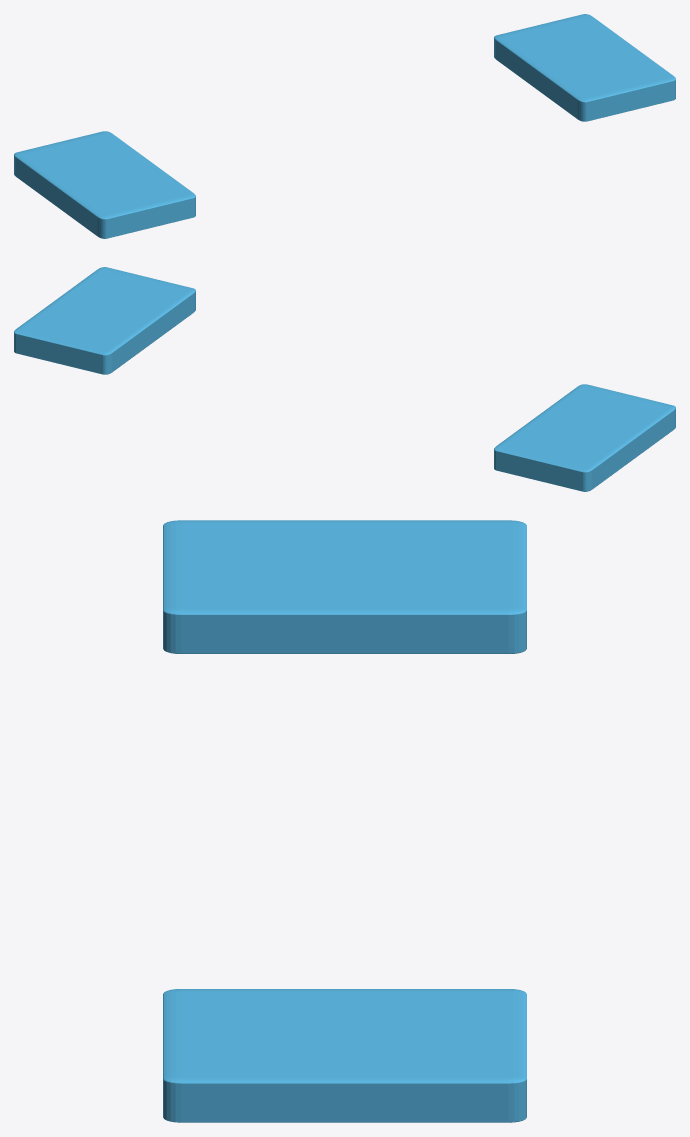
The model's file is blue_blocks.dae.
3 views of the same model, one above another, from view 1: azimuth 30°, elevation 25°; view 2: azimuth 150°, elevation 25°; view 3: azimuth 270°, elevation 25° (orthographic). The views are drawn at different scales.
Parts seen in each view (by area): view 1: BlueBlock2, BlueBlock1; view 2: BlueBlock2, BlueBlock1; view 3: BlueBlock2, BlueBlock1.
Boxes of the visible parts, x1,y1,x2,y2 form: BlueBlock2: (494, 14, 675, 121); BlueBlock1: (14, 131, 195, 238); BlueBlock2: (14, 267, 195, 374); BlueBlock1: (494, 384, 675, 491); BlueBlock2: (163, 989, 526, 1122); BlueBlock1: (163, 520, 526, 653).
Size of the model in its own units: 7.32 by 2 by 0.2606.
Materials: 1 (1 with a texture image).
